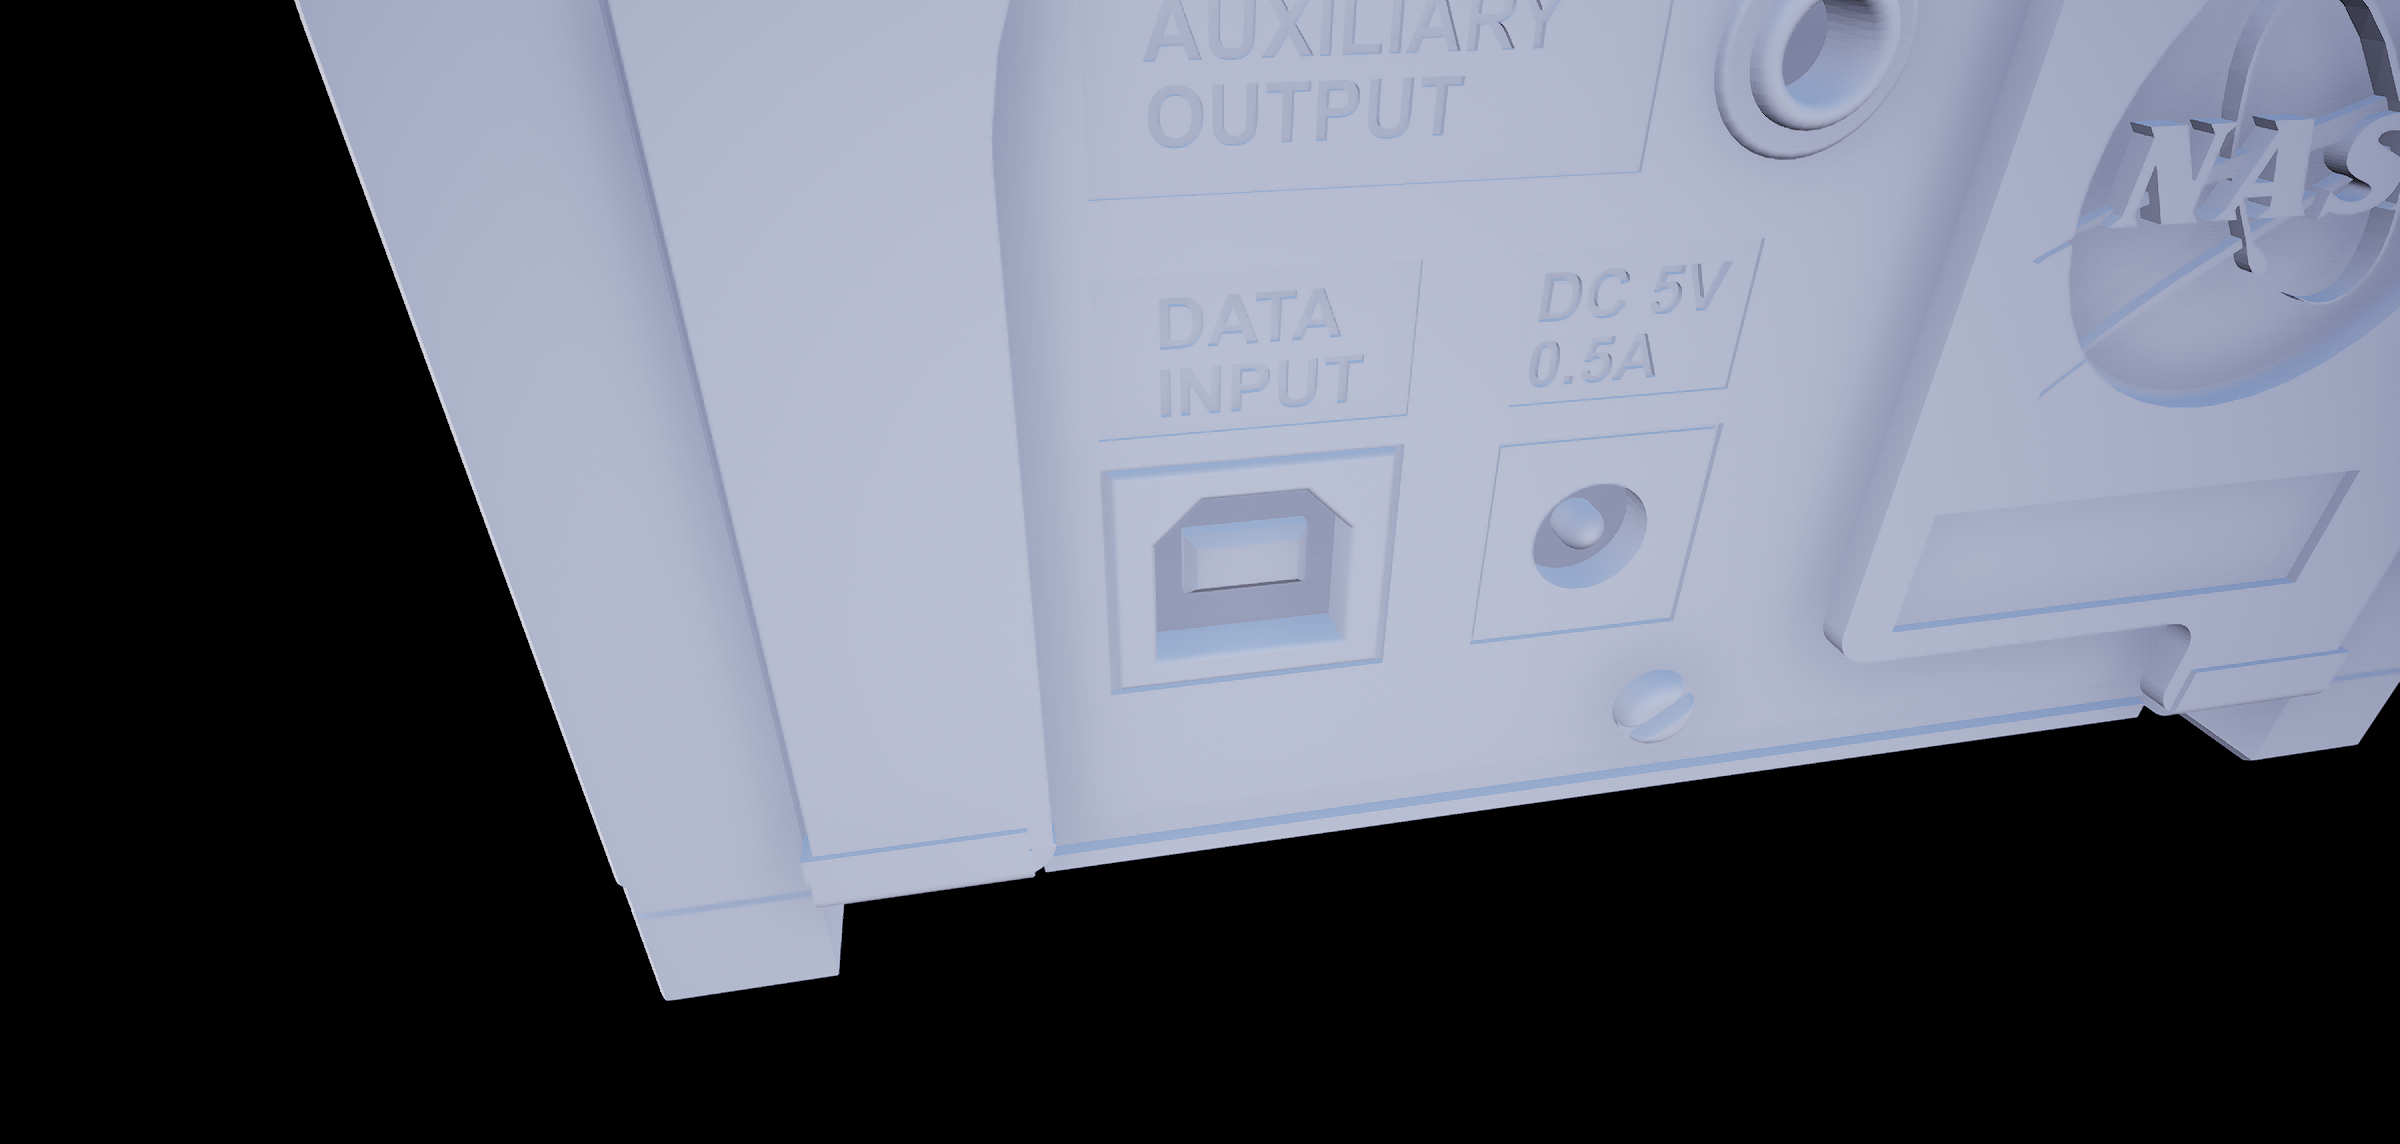aux: (1705, 5, 1936, 165)
dc: (1531, 476, 1655, 597)
usb: (1142, 489, 1365, 655)
